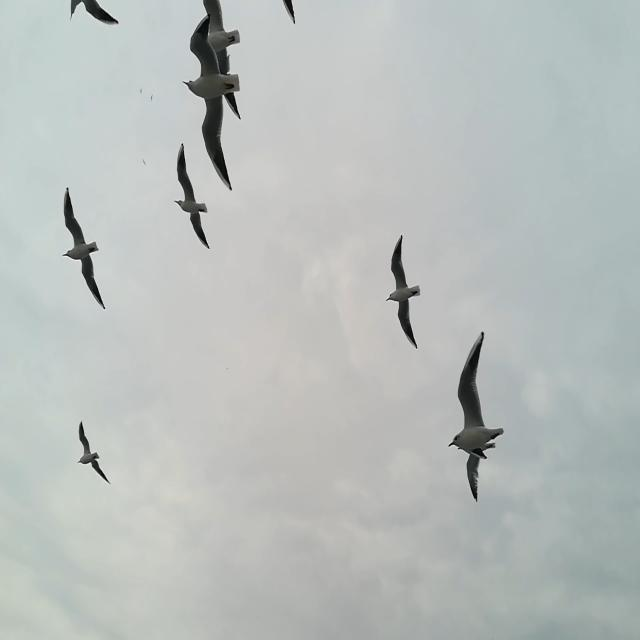bird: (182, 14, 240, 191), (448, 330, 504, 461), (61, 186, 105, 310), (202, 0, 242, 120), (447, 426, 505, 504), (386, 233, 422, 350), (172, 142, 211, 249), (77, 422, 111, 485), (67, 1, 119, 26), (282, 0, 296, 25), (142, 158, 146, 166), (150, 94, 153, 102), (140, 88, 142, 94)
